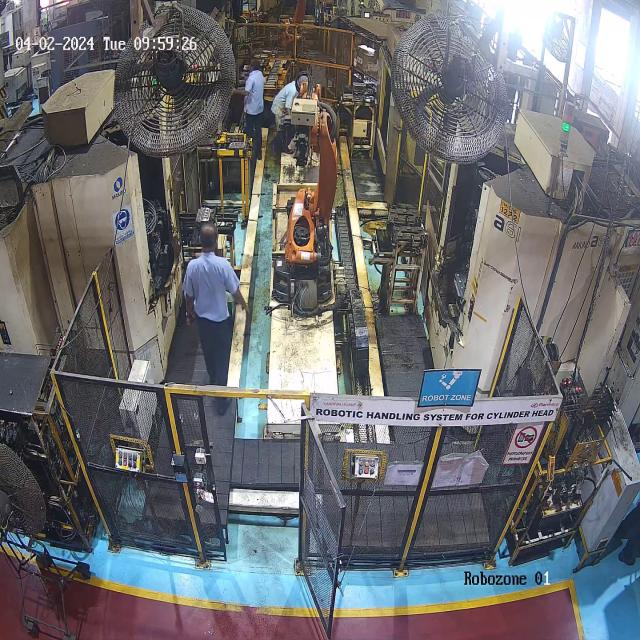person: (179, 220, 248, 415), (238, 52, 266, 160), (271, 75, 309, 137)
